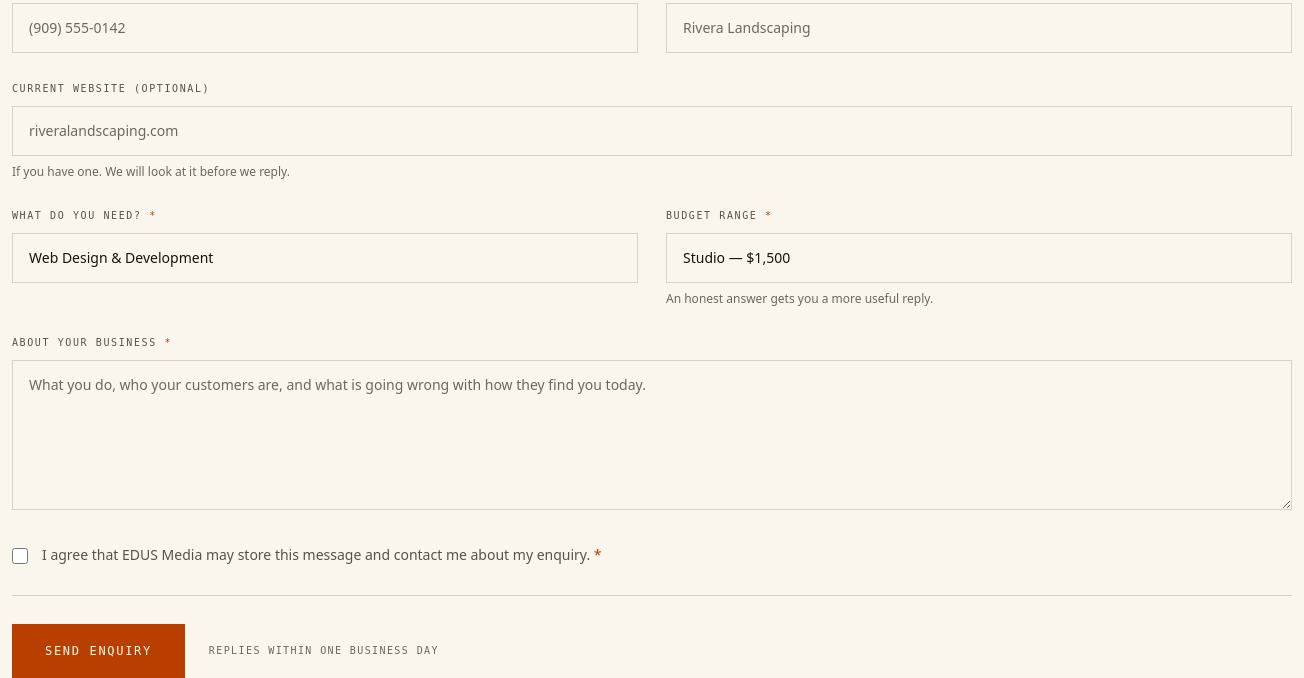
Test case: ContactForm › surfaces field validation when required values are missing
(page scrolled)
Click the button "Send enquiry".
click(98, 650)  # box [12,624,185,677]
(page scrolled)
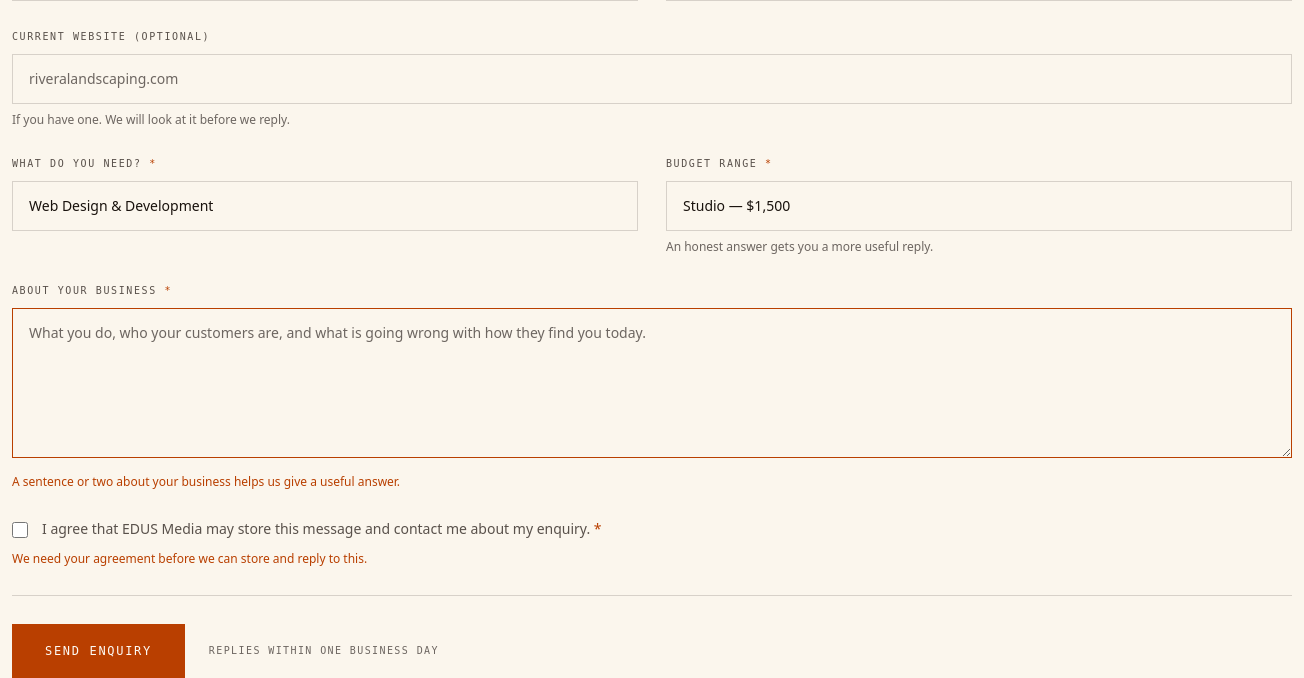
Check: the text "sentence or two about your business" is shown, box [12,473,400,490]
Check: the text "We need your agreement" is shown, box [12,550,367,566]
